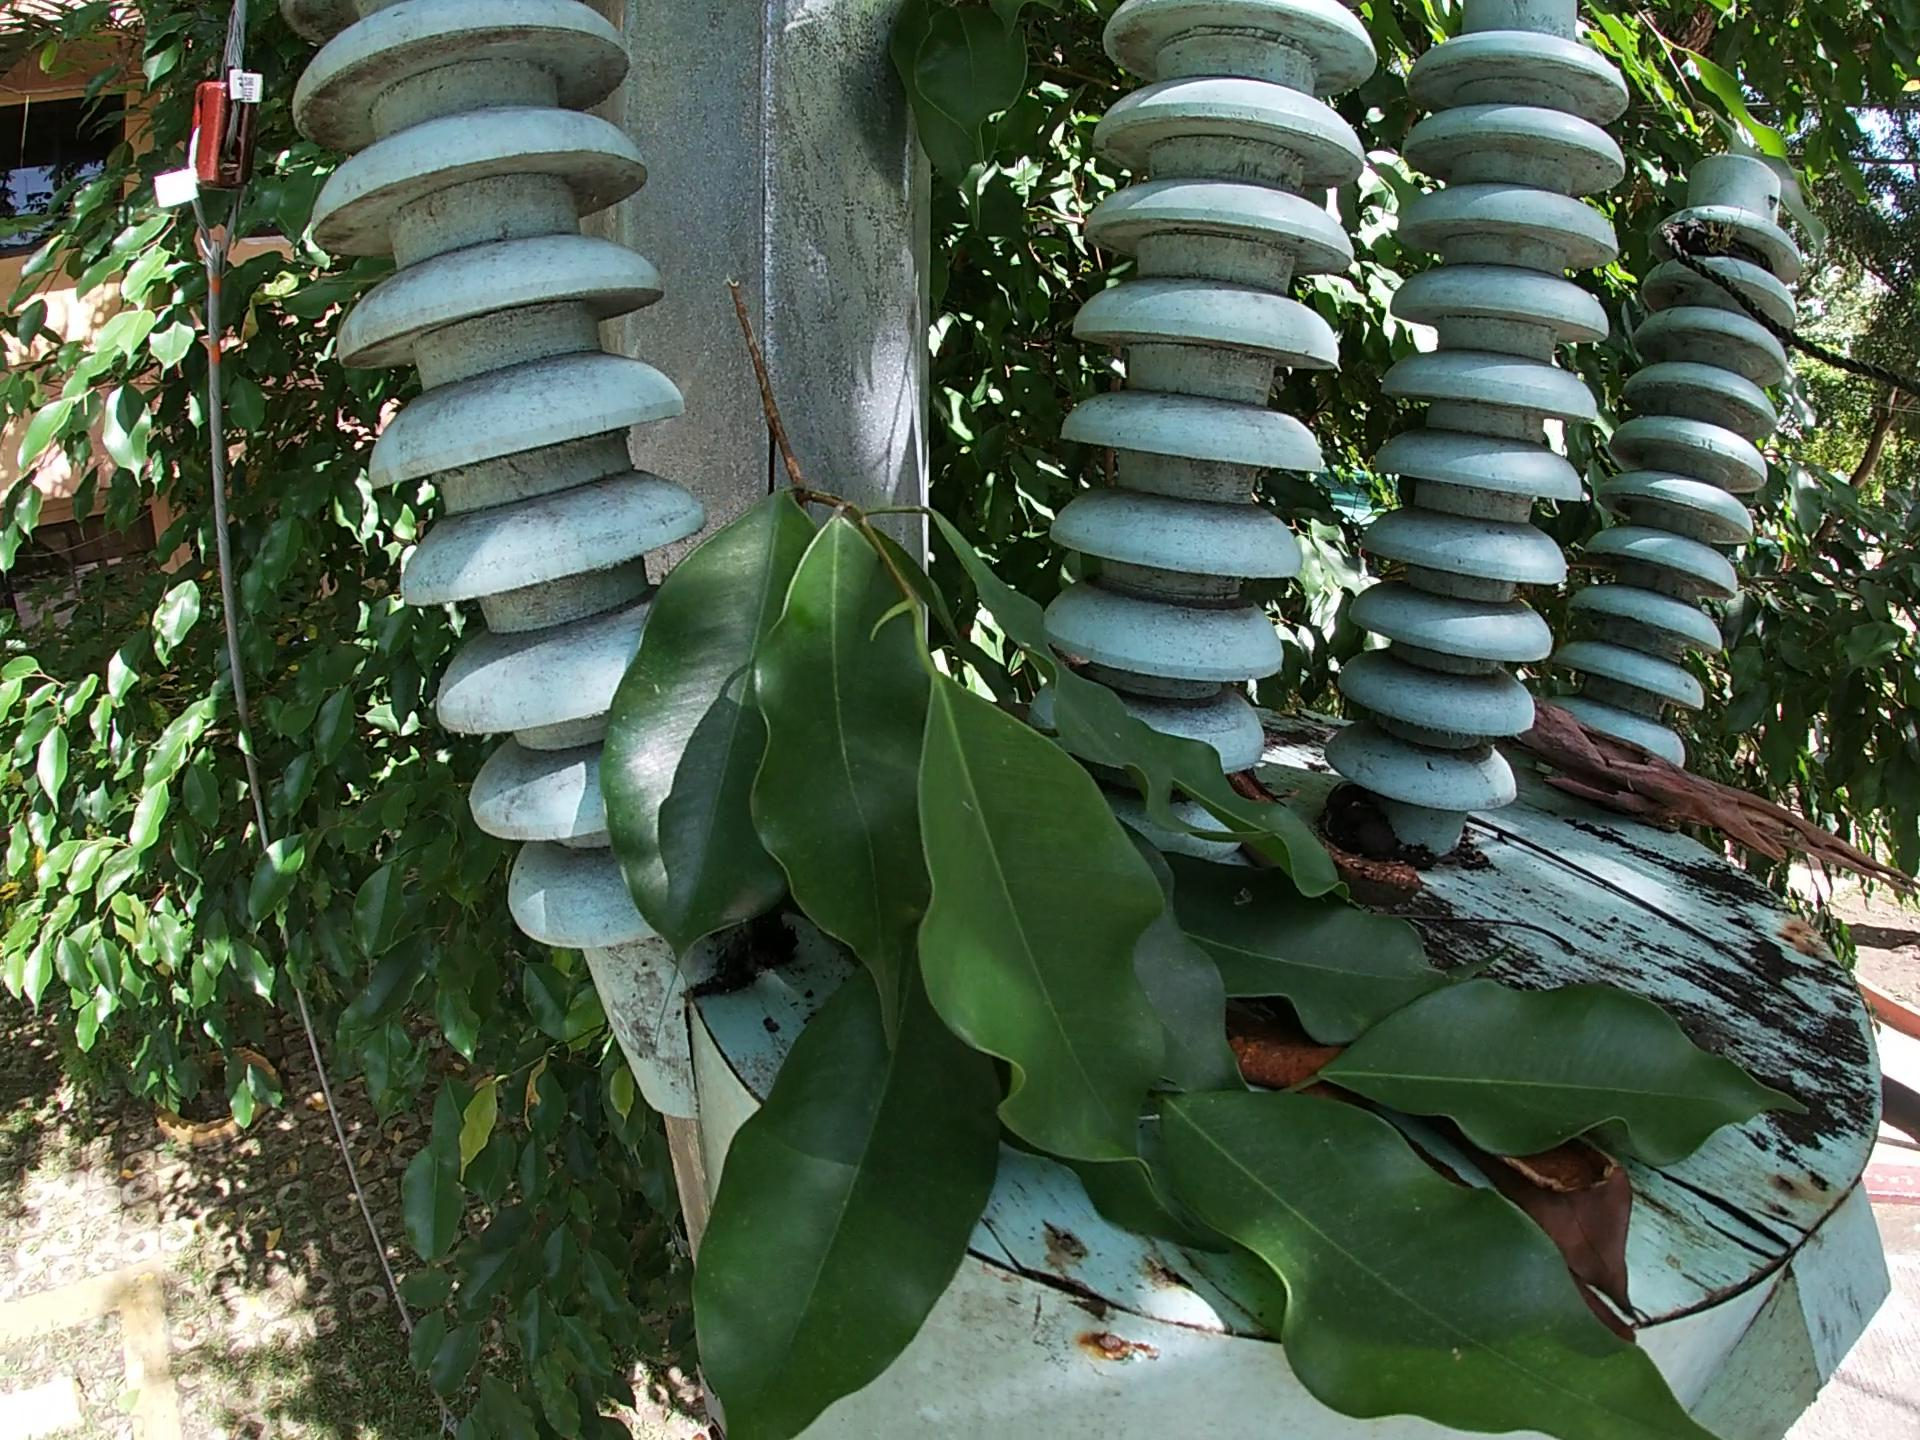branch with leaves: (615, 242, 1779, 1440)
leaf: (1528, 1180, 1651, 1337), (1222, 1021, 1350, 1088)
mahogany fruit: (1246, 781, 1432, 902), (1503, 1144, 1621, 1196)
tree branch: (1516, 688, 1920, 915), (1466, 809, 1808, 1006)
